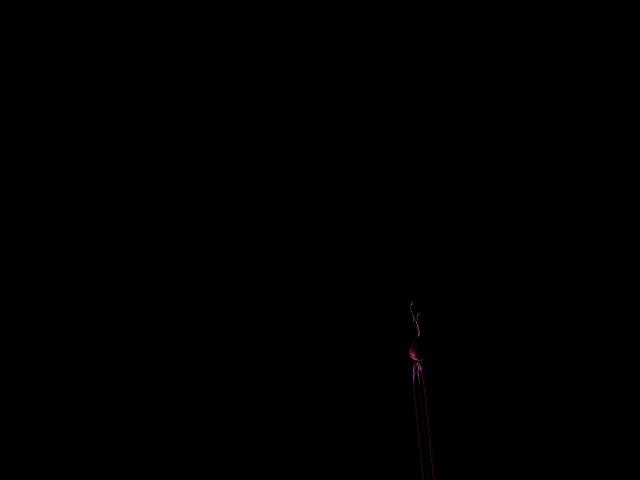beet: (402, 299, 434, 387)
